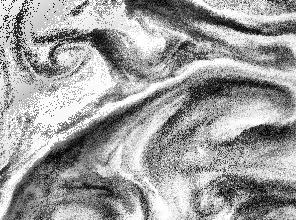CE: (47, 36, 93, 76)
